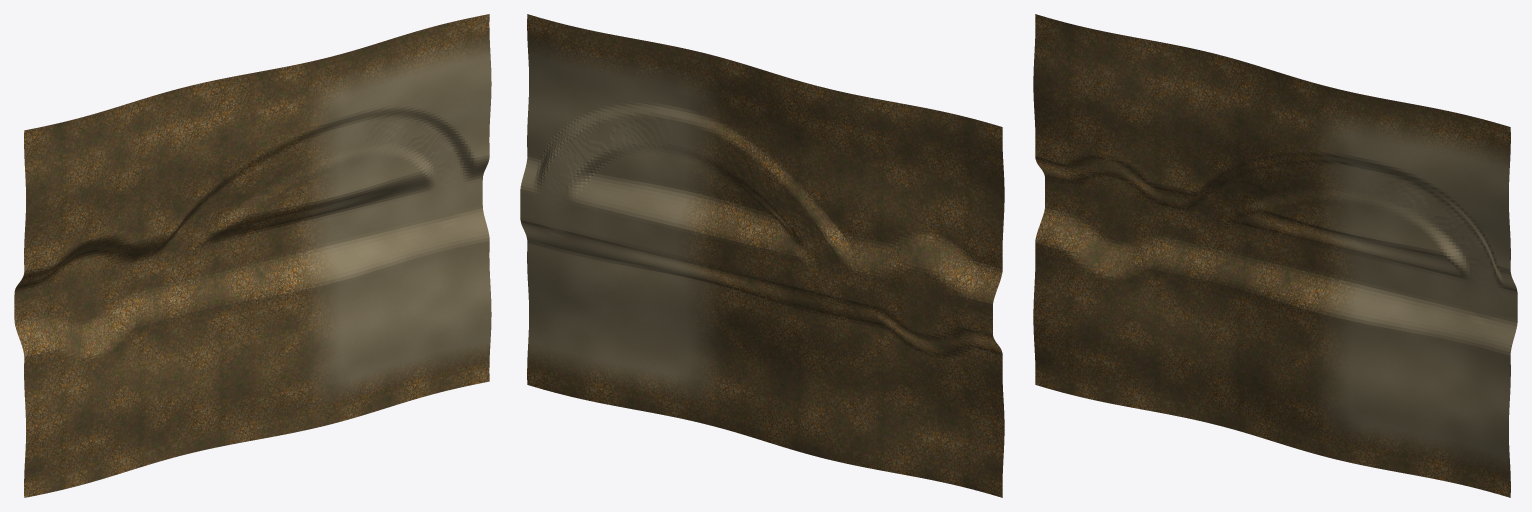
Rendered from terrain.obj.
3 renders of one model, left to right at view 1: azimuth 30°, elevation 25°; view 2: azimuth 150°, elevation 25°; view 3: azimuth 330°, elevation 25°, orthographic.
Parts seen in each view (by area): view 1: terrain; view 2: terrain; view 3: terrain.
Part boxes in pixels (bbox=[...]): terrain: bbox=[14, 14, 491, 497]; terrain: bbox=[520, 14, 1004, 497]; terrain: bbox=[1033, 14, 1517, 497].
Size of the model in its own units: 80 by 60 by 3.8.
